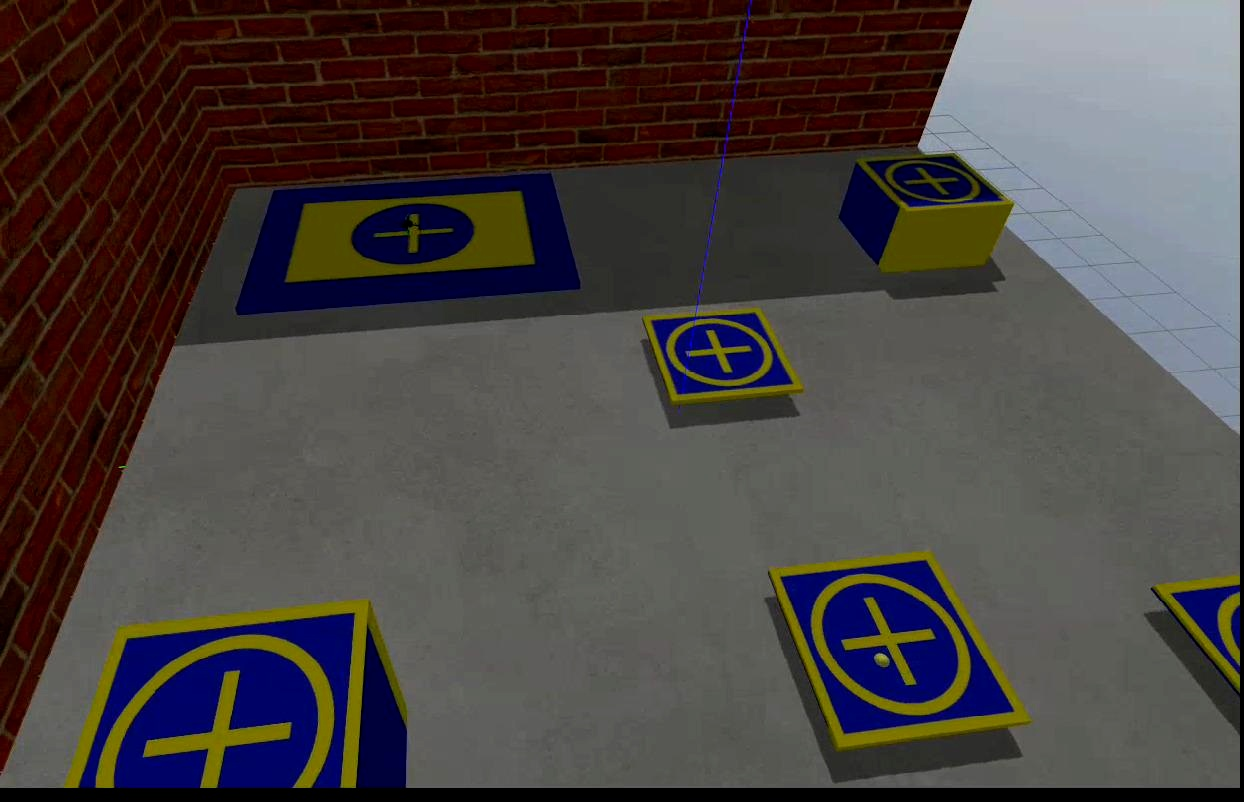large_base: (236, 172, 582, 319)
small_base: (61, 595, 376, 791), (769, 546, 1033, 755), (641, 306, 807, 410), (1153, 571, 1244, 698), (858, 154, 1015, 218)
